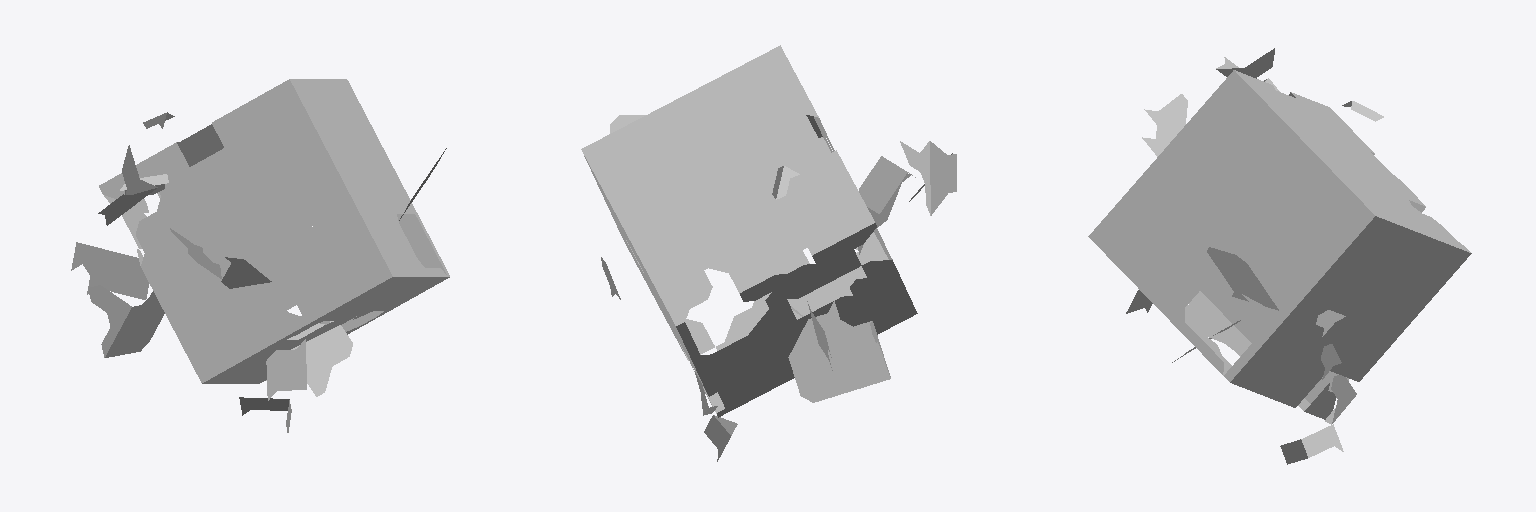
The model's file is explode_000021.obj.
3 renders of one model, left to right at view 1: azimuth 30°, elevation 25°; view 2: azimuth 150°, elevation 25°; view 3: azimuth 270°, elevation 25°, orthographic.
Visible parts, largest first — view 1: Cube_Cube.001; view 2: Cube_Cube.001; view 3: Cube_Cube.001.
Boxes of the visible parts, x1,y1,x2,y2 form: Cube_Cube.001: [71, 79, 449, 432]; Cube_Cube.001: [581, 45, 956, 461]; Cube_Cube.001: [1088, 48, 1471, 464].
Bounding box in the file's own units: 3.57 × 3.75 × 3.41.